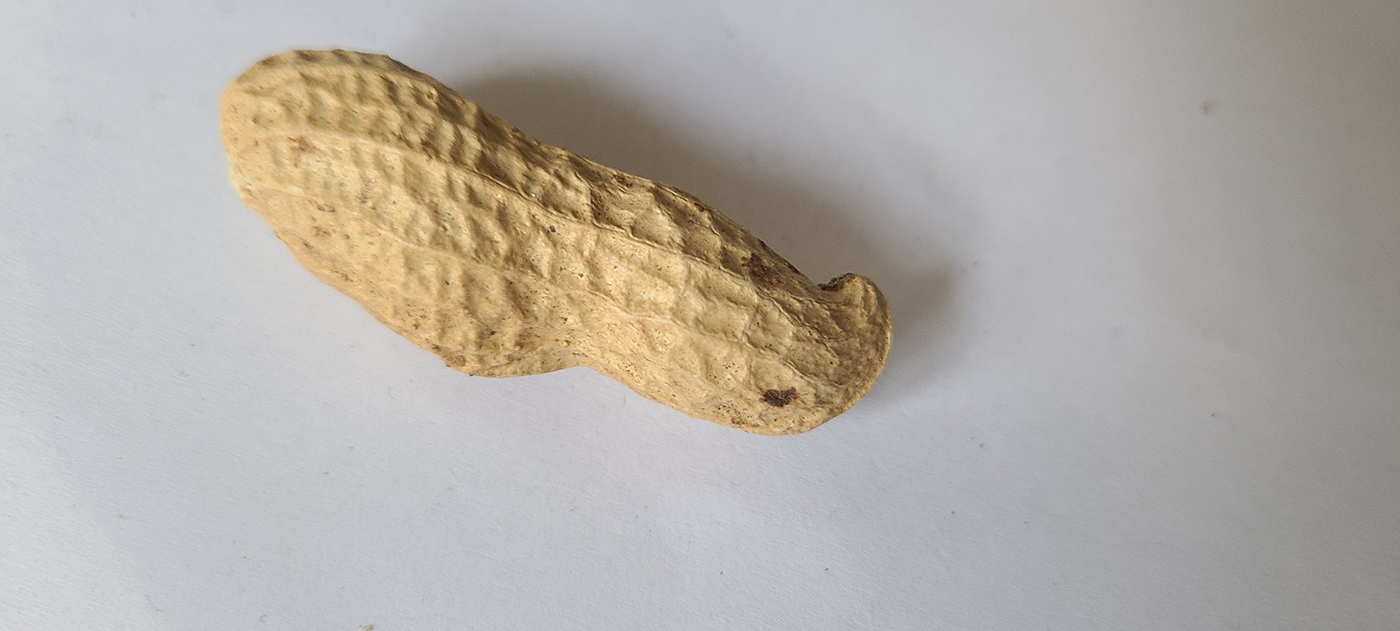h: (216, 44, 894, 439)
